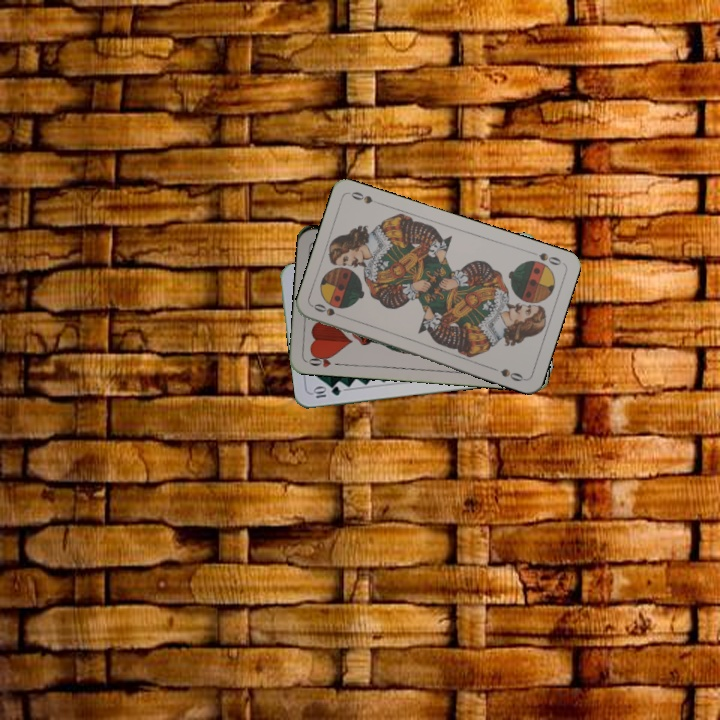G10: (309, 382, 344, 401)
HO: (303, 350, 344, 370)
SO: (310, 300, 349, 321), (526, 247, 564, 268)
